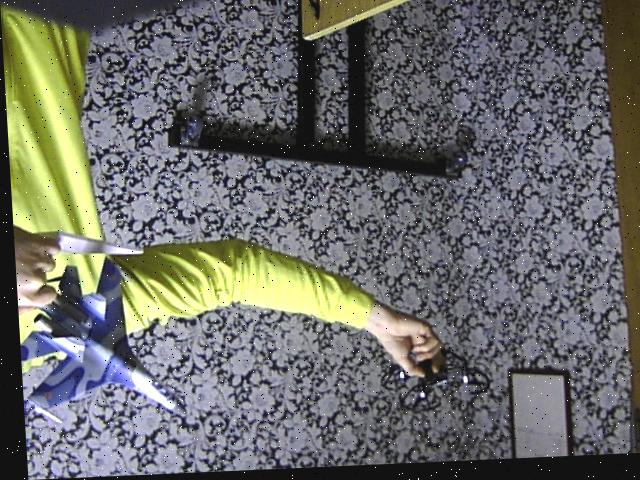drone: (365, 350, 498, 425)
